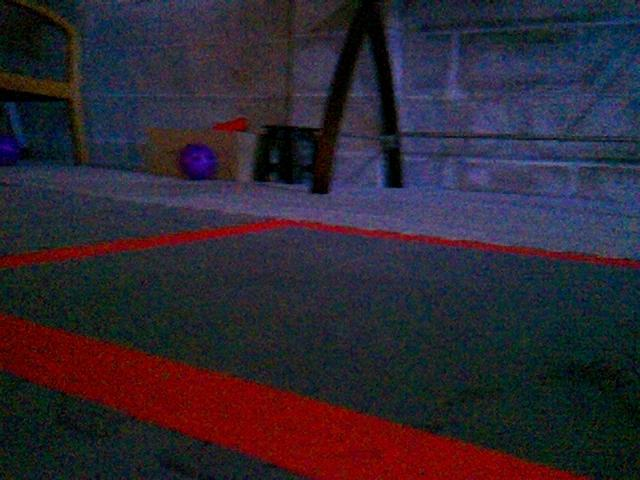Purple: (177, 142, 218, 180), (0, 133, 24, 166)
